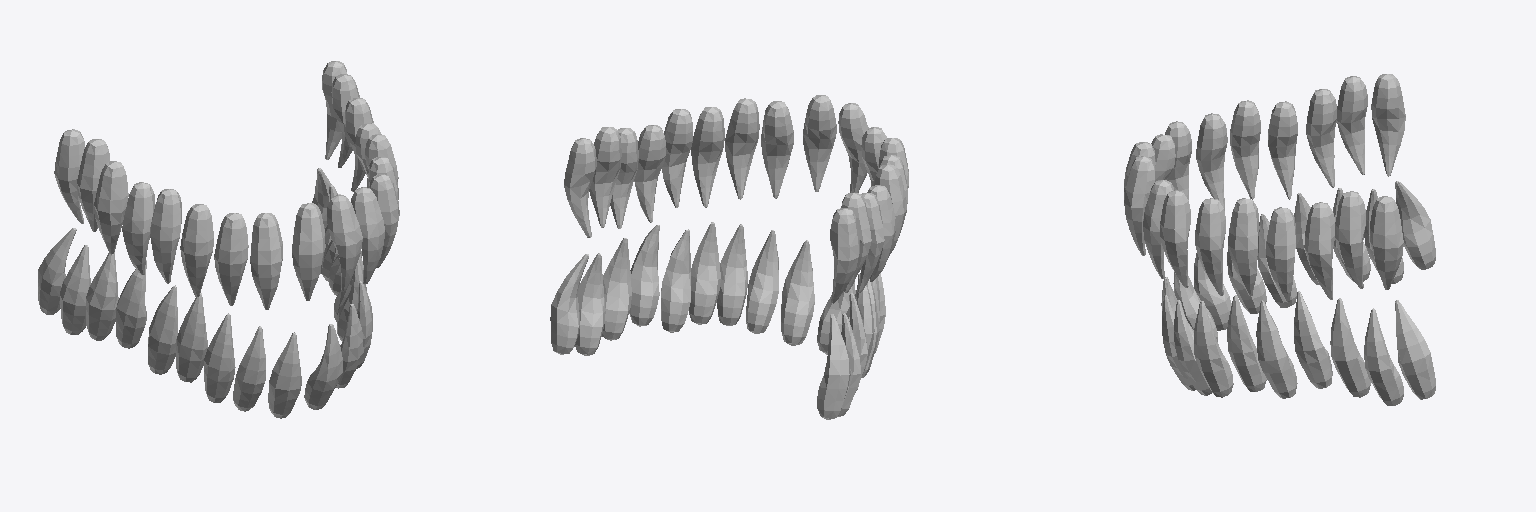
The model's file is Teeth.OBJ.
3 views of the same model, side by side, from view 1: azimuth 30°, elevation 25°; view 2: azimuth 150°, elevation 25°; view 3: azimuth 270°, elevation 25° (orthographic).
Visible parts, largest first — view 1: Group3436, Group3451, Group3421, Group3361, Group3406, Group3391, Group3571, Group3631, Group3376, Group3676, Group3691, Group3661 (+19 smaller); view 2: Group3841, Group3856, Group3796, Group3556, Group3811, Group3541, Group3781, Group3571, Group3586, Group3826, Group3766, Group3751 (+19 smaller); view 3: Group3331, Group3736, Group3466, Group3526, Group3796, Group3391, Group3601, Group3481, Group3556, Group3346, Group3541, Group3496 (+21 smaller).
Part boxes in pixels (bbox=[...]): Group3436: bbox=[292, 203, 325, 300]; Group3451: bbox=[250, 213, 282, 309]; Group3421: bbox=[214, 213, 248, 305]; Group3361: bbox=[94, 161, 128, 254]; Group3406: bbox=[180, 204, 213, 296]; Group3391: bbox=[150, 189, 181, 283]; Group3571: bbox=[327, 195, 362, 291]; Group3631: bbox=[86, 252, 118, 340]; Group3376: bbox=[122, 182, 155, 274]; Group3676: bbox=[176, 293, 207, 382]; Group3691: bbox=[204, 313, 235, 402]; Group3661: bbox=[148, 285, 177, 374]; Group3841: bbox=[781, 240, 814, 345]; Group3856: bbox=[746, 230, 778, 333]; Group3796: bbox=[661, 229, 690, 332]; Group3556: bbox=[725, 98, 759, 199]; Group3811: bbox=[689, 222, 720, 324]; Group3541: bbox=[691, 107, 724, 207]; Group3781: bbox=[629, 225, 659, 326]; Group3571: bbox=[803, 95, 836, 191]; Group3586: bbox=[761, 101, 793, 198]; Group3826: bbox=[717, 224, 747, 325]; Group3766: bbox=[602, 238, 631, 340]; Group3751: bbox=[575, 253, 605, 355]; Group3331: bbox=[1371, 74, 1405, 176]; Group3736: bbox=[1395, 300, 1435, 399]; Group3466: bbox=[1370, 196, 1403, 289]; Group3526: bbox=[1228, 198, 1259, 295]; Group3796: bbox=[1256, 300, 1297, 398]; Group3391: bbox=[1230, 100, 1260, 199]; Group3601: bbox=[1395, 181, 1435, 269]; Group3481: bbox=[1335, 191, 1365, 288]; Group3556: bbox=[1160, 190, 1190, 287]; Group3346: bbox=[1337, 76, 1367, 174]; Group3541: bbox=[1195, 198, 1225, 295]; Group3496: bbox=[1304, 202, 1334, 299].
Size of the model in its own units: 0.3144 by 0.2537 by 0.2884.